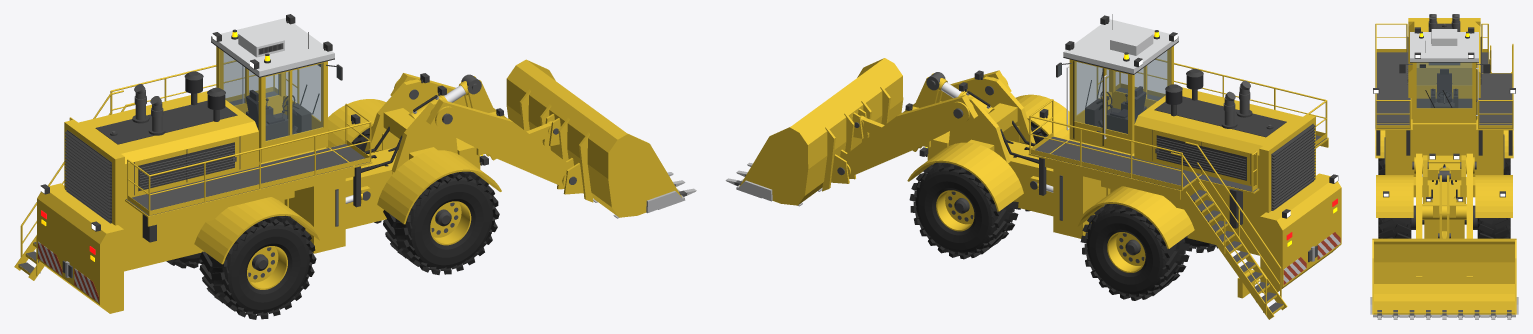
File: large_wheel_loader.glb
3 views of the same model, side by side, from view 1: azimuth 30°, elevation 25°; view 2: azimuth 150°, elevation 25°; view 3: azimuth 270°, elevation 25° (orthographic). The views are drawn at different scales.
Parts seen in each view (by area): view 1: rear_frame, bucket_tilt, cab, hitch_rotate, wheel_rear_right_spin, wheel_front_right_spin, lift_arm_tilt, bell_crank_tilt, tilt_cylinder_rod_slide; view 2: rear_frame, bucket_tilt, cab, hitch_rotate, wheel_rear_left_spin, wheel_front_left_spin, lift_arm_tilt, bell_crank_tilt, tilt_cylinder_rod_slide; view 3: rear_frame, bucket_tilt, cab, hitch_rotate, lift_arm_tilt, wheel_front_right_spin, wheel_front_left_spin, bell_crank_tilt, wheel_rear_right_spin, wheel_rear_left_spin.
Boxes of the visible parts, x1,y1,x2,y2 form: rear_frame: (14, 60, 372, 313); bucket_tilt: (506, 59, 696, 218); cab: (211, 14, 342, 162); hitch_rotate: (326, 73, 501, 228); wheel_rear_right_spin: (199, 215, 316, 319); wheel_front_right_spin: (383, 171, 499, 274); lift_arm_tilt: (390, 73, 576, 187); bell_crank_tilt: (461, 76, 496, 160); tilt_cylinder_rod_slide: (444, 74, 481, 102); rear_frame: (1028, 58, 1341, 319); bucket_tilt: (725, 58, 903, 206); cab: (1056, 14, 1178, 154); hitch_rotate: (907, 70, 1071, 216); wheel_rear_left_spin: (1080, 204, 1189, 300); wheel_front_left_spin: (909, 162, 1018, 259); lift_arm_tilt: (837, 70, 1011, 177); bell_crank_tilt: (912, 73, 945, 151); tilt_cylinder_rod_slide: (926, 72, 961, 98); rear_frame: (1373, 14, 1515, 176); bucket_tilt: (1370, 238, 1518, 319); cab: (1399, 27, 1489, 122); hitch_rotate: (1376, 153, 1512, 238); lift_arm_tilt: (1412, 153, 1476, 277); wheel_front_right_spin: (1378, 218, 1411, 238); wheel_front_left_spin: (1477, 218, 1510, 238); bell_crank_tilt: (1438, 173, 1450, 238); wheel_rear_right_spin: (1378, 158, 1385, 174); wheel_rear_left_spin: (1503, 158, 1510, 174).
Size of the model in its own units: 16.68 by 6.65 by 5.13.
18 materials, 18 textured.
